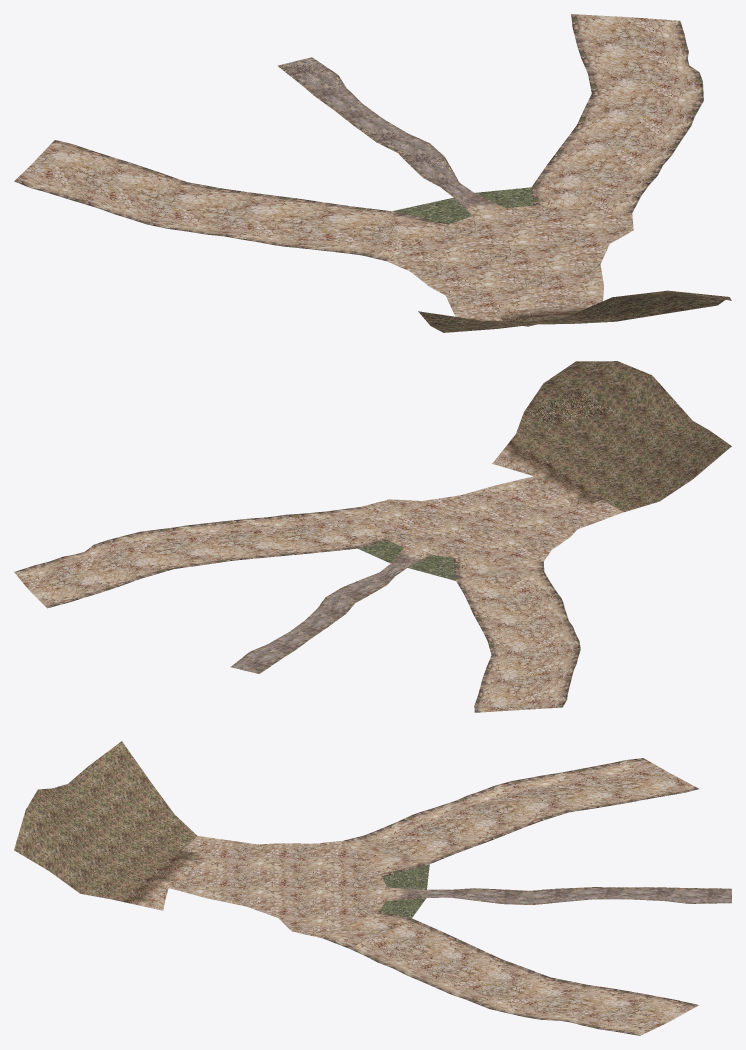
Rendered from ground.obj.
3 renders of one model, top to bottom at view 1: azimuth 30°, elevation 25°; view 2: azimuth 150°, elevation 25°; view 3: azimuth 270°, elevation 25°, orthographic. The views are drawn at different scales.
Parts seen in each view (by area): view 1: ground; view 2: ground; view 3: ground.
Part boxes in pixels (x1=…): ground: x1=14, y1=14, x2=731, y2=332; ground: x1=14, y1=361, x2=731, y2=712; ground: x1=14, y1=741, x2=731, y2=1035.
Bounding box in the file's own units: 2505 × 309 × 2734.
